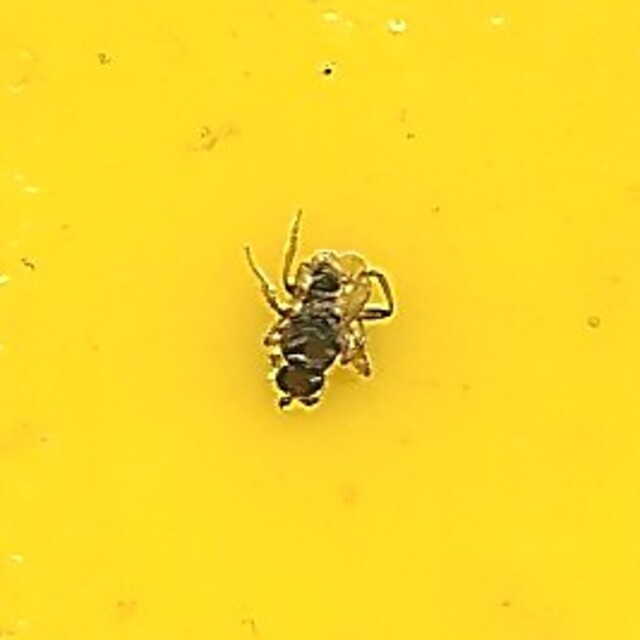Brachycera: (240, 223, 400, 417)
